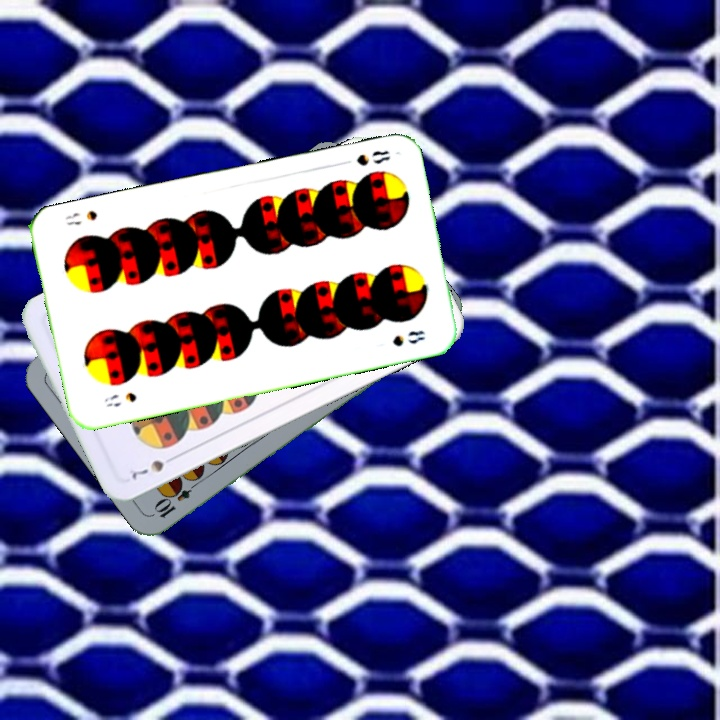E10: (151, 475, 203, 521)
S7: (127, 451, 180, 481)
S8: (352, 146, 393, 169), (100, 388, 139, 410)
